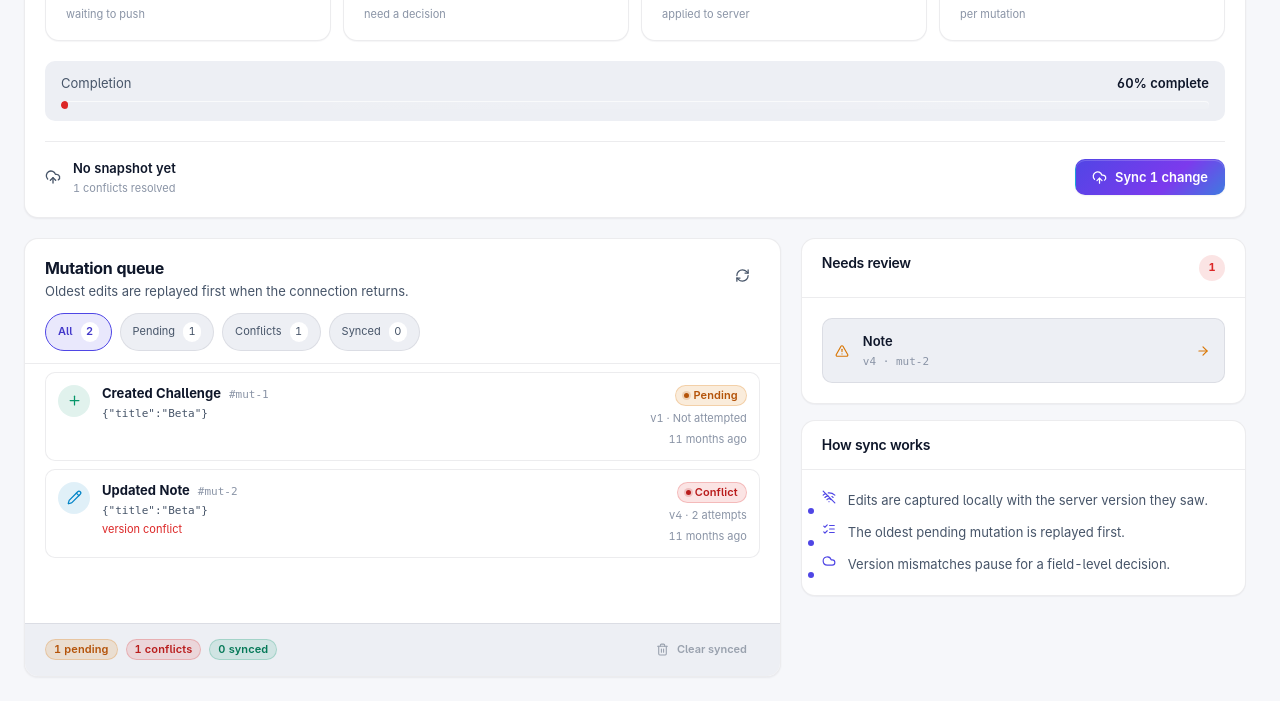
it: OfflinePage › lists conflicts and opens the resolution dialog
(page scrolled)
Check: the text "Updated Note #mut-2" is shown, box [102,482,238,498]
Click the button "Note v4 · mut-2": click(912, 362) [822,318,1225,383]
(page scrolled)
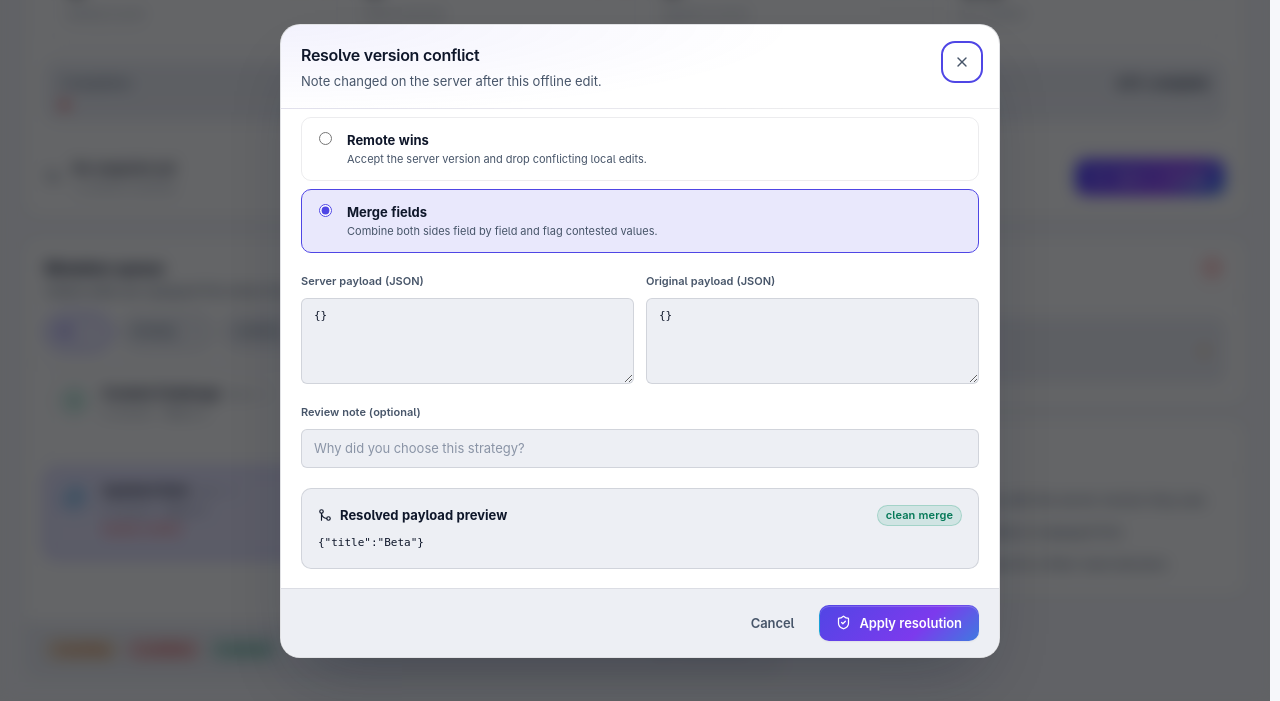
Check: the dialog "Resolve version conflict" is shown, box [280,24,1000,658]
Check: the text "Resolved payload preview" is shown, box [318,505,507,525]
